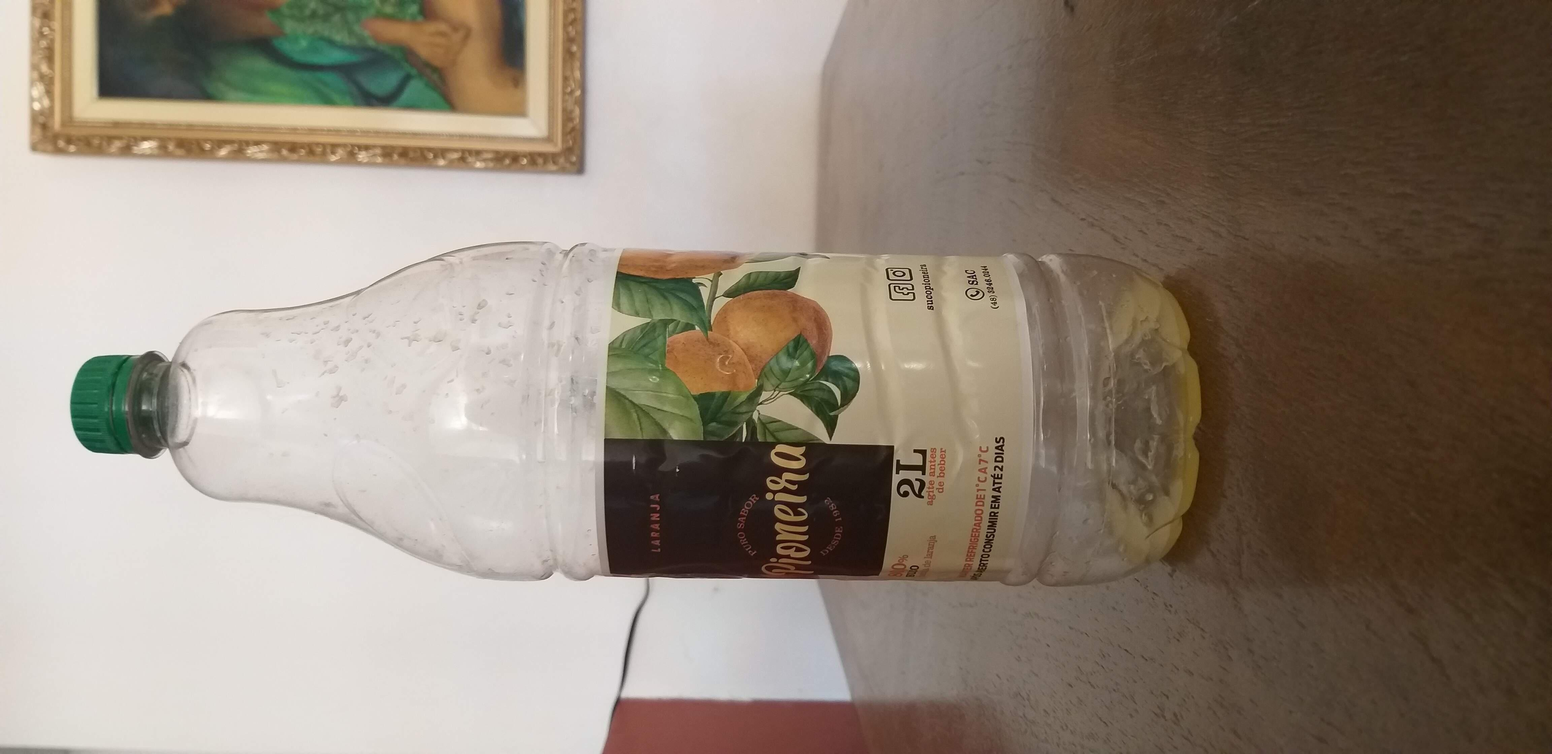bottle-plastic: (72, 236, 1209, 590)
